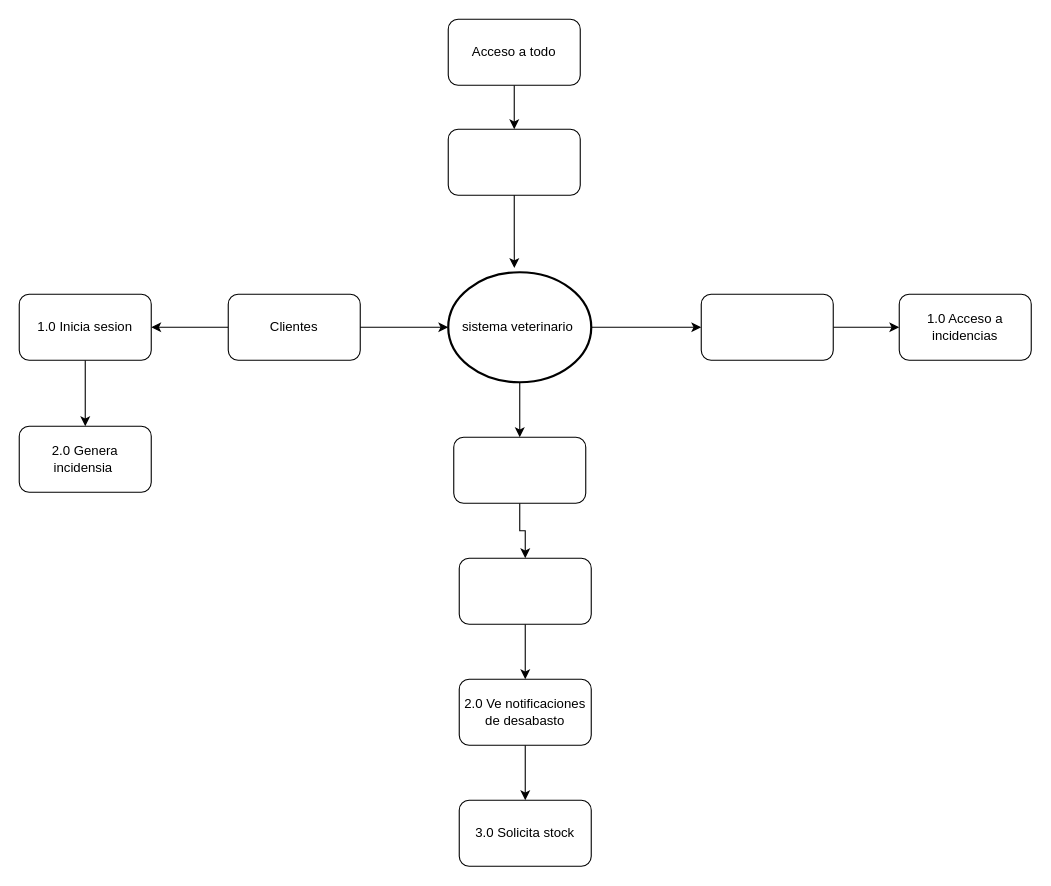
The diagram is 1051 pixels wide and 886 high, and some of its shapes have lost their labels. Here are the shapes that lost their labels. From the top down, the centre of each, then its label:
pixel 513 161: administrativo
pixel 766 326: Veterinario
pixel 519 469: Almacen
pixel 524 590: 1.0 Control de inventario de medicamentos
